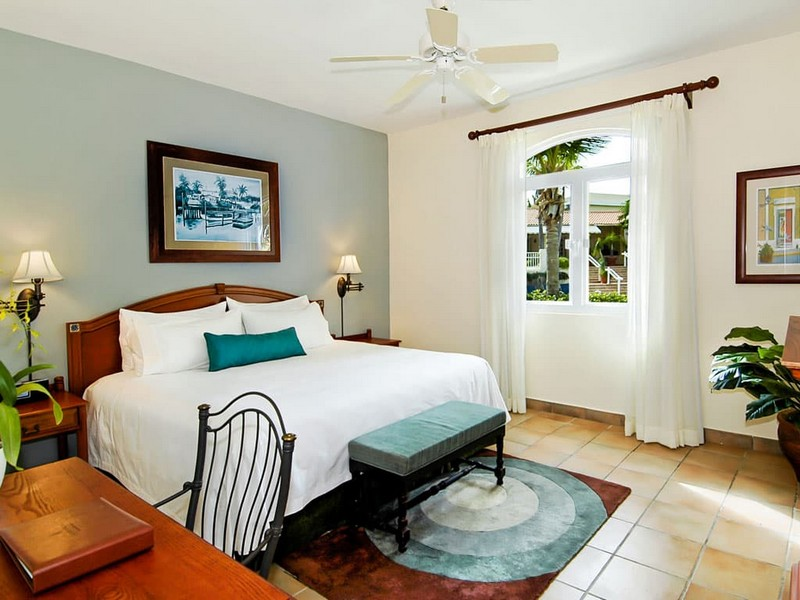bed: (68, 282, 512, 544)
chair: (176, 389, 292, 567)
lamp: (13, 247, 61, 320), (331, 249, 374, 308)
stool: (345, 396, 515, 528)
table: (4, 454, 286, 599)
